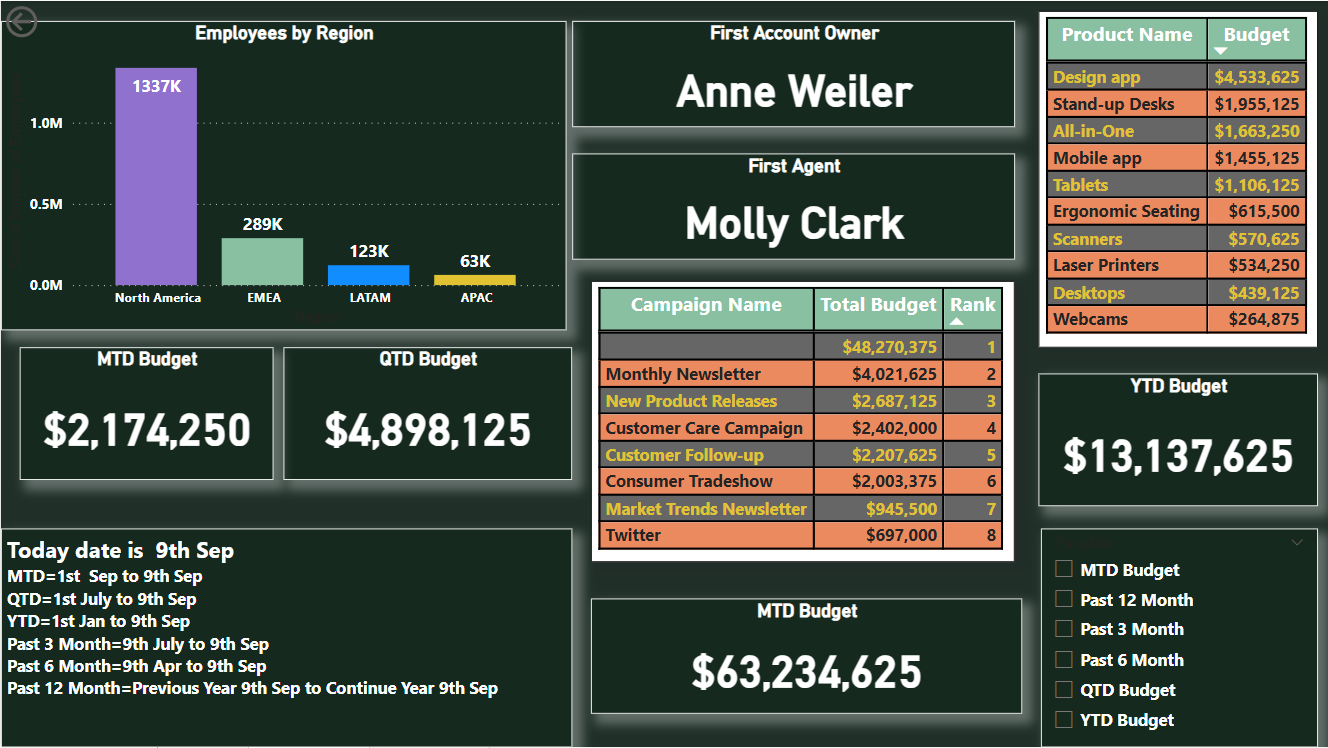

The page's visual inventory and layout, read from the dashboard file:
{"tool":"powerbi","page":{"name":"summery1","canvas":[1280,720],"ordinal":1},"visuals":[{"type":"columnChart","title":"Employees by Region","fields":{"Category":["Accounts.Region"],"Y":["Sum(Accounts.Number of Employees)"]},"box":[0,19.7,545.4,298],"z":0},{"type":"card","title":"First Account Owner","fields":{"Values":["Min(Accounts.Account Owner)"]},"box":[551,19.7,427.3,102.6],"z":1000},{"type":"card","title":"First Agent","fields":{"Values":["Min(Cases.Agent)"]},"box":[551,147.6,427.3,102.6],"z":2000},{"type":"tableEx","fields":{"Values":["Oppournities.Product Name","All Measures.TBudget onwards 2021"]},"box":[1000.8,9.8,269.9,324.7],"z":3000},{"type":"tableEx","fields":{"Values":["Oppournities.Campaign Name","All Measures.Total Budget","All Measures.Rank"]},"box":[569.3,269.9,409.1,271.3],"z":4000},{"type":"actionButton","box":[0,0,100,40],"z":5000},{"type":"card","title":"MTD Budget","fields":{"Values":["All Measures.MTD Budget"]},"box":[18.3,334.6,244.6,127.9],"z":6000},{"type":"card","title":"QTD Budget","fields":{"Values":["All Measures.QTD Budget"]},"box":[272.7,334.6,278.3,127.9],"z":7000},{"type":"card","title":"YTD Budget","fields":{"Values":["All Measures.YTD Budget"]},"box":[1000.8,359.9,269.9,127.9],"z":8000},{"type":"slicer","fields":{"Values":["India.Paradise"]},"box":[1003.7,508.9,267.1,210.9],"z":10000},{"type":"card","fields":{"Values":["All Measures.Switch"]},"box":[569.3,576.3,416.1,111],"z":11000},{"type":"textbox","box":[0,508.9,551,210.9],"z":12000}]}

Visuals, with their boxes in screenshot pixels (x1, y1, x2, y2), scaled from the page's 1280x720 canvas onto the 1328x748 screenshot:
"Employees by Region" columnChart: Rect(0, 20, 566, 330)
"First Account Owner" card: Rect(572, 20, 1015, 127)
"First Agent" card: Rect(572, 153, 1015, 260)
tableEx - Oppournities.Product Name x All Measures.TBudget onwards 2021: Rect(1038, 10, 1318, 348)
tableEx - Oppournities.Campaign Name x All Measures.Total Budget: Rect(591, 280, 1015, 562)
actionButton: Rect(0, 0, 104, 42)
"MTD Budget" card: Rect(19, 348, 273, 480)
"QTD Budget" card: Rect(283, 348, 572, 480)
"YTD Budget" card: Rect(1038, 374, 1318, 507)
slicer - India.Paradise: Rect(1041, 529, 1318, 747)
card - All Measures.Switch: Rect(591, 599, 1022, 714)
textbox: Rect(0, 529, 572, 747)
